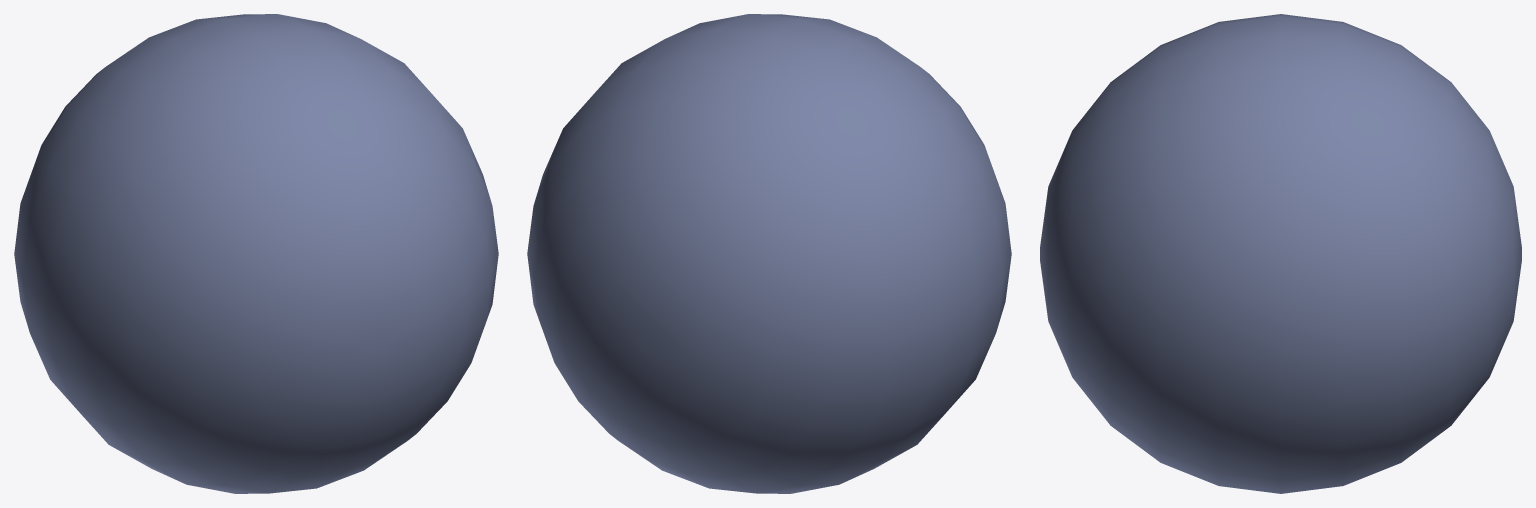
File: cannonBall.glb
The picture shows the model from 3 angles, left to right: view 1: azimuth 30°, elevation 25°; view 2: azimuth 150°, elevation 25°; view 3: azimuth 270°, elevation 25°; orthographic projection.
Visible parts, largest first — view 1: cannonBall; view 2: cannonBall; view 3: cannonBall.
Part boxes in pixels (left/top/right/bottom): cannonBall: left=14, top=14, right=498, bottom=493; cannonBall: left=527, top=14, right=1011, bottom=493; cannonBall: left=1040, top=14, right=1521, bottom=493.
Bounding box in the file's own units: 0.14 × 0.14 × 0.14.
